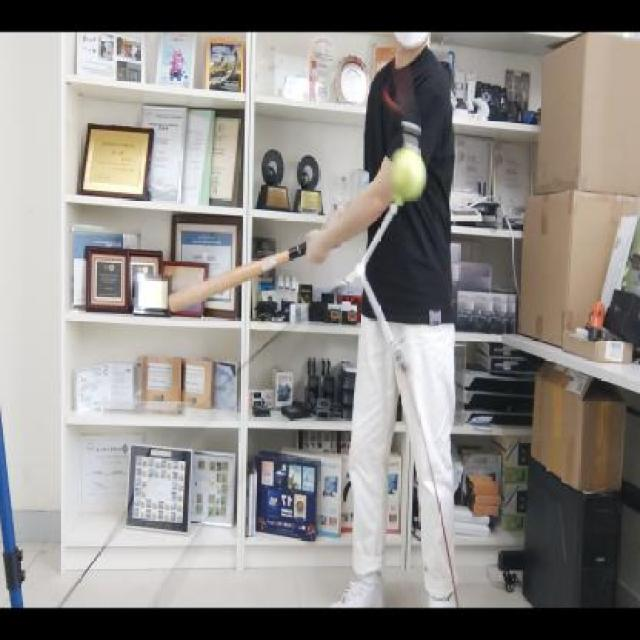baseball: (388, 146, 428, 206)
